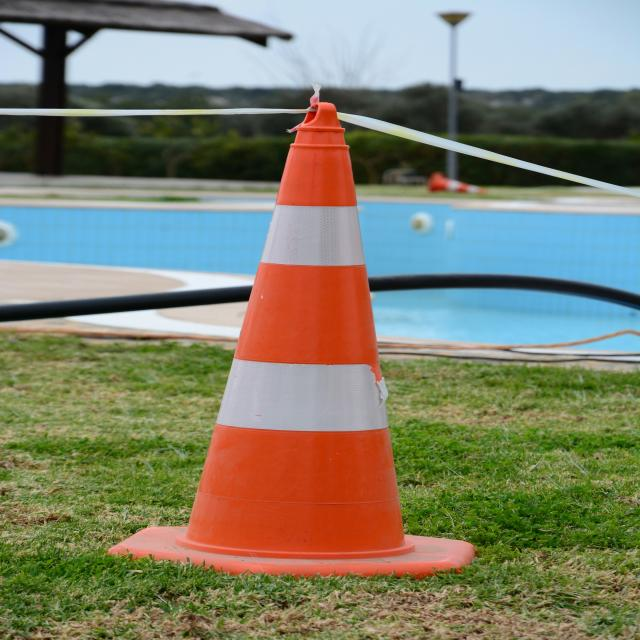Traffic Cone: (101, 76, 502, 586)
